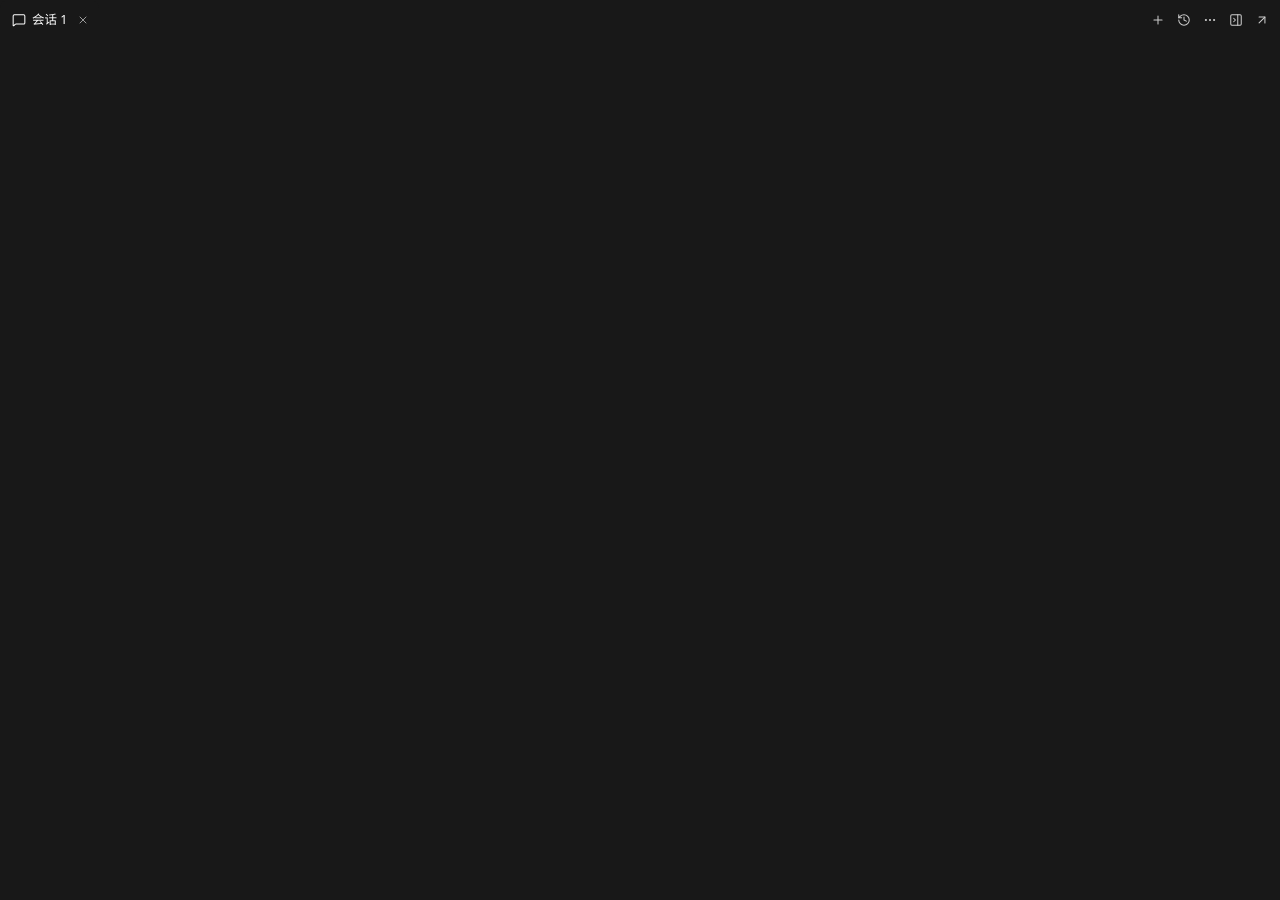
Scenario: <ThreadTabs> history popover › lists recent threads as kit menu rows (h42 with description) and selects on click
Click the button named "历史会话" at (1184, 20), box [1172,8,1196,32]
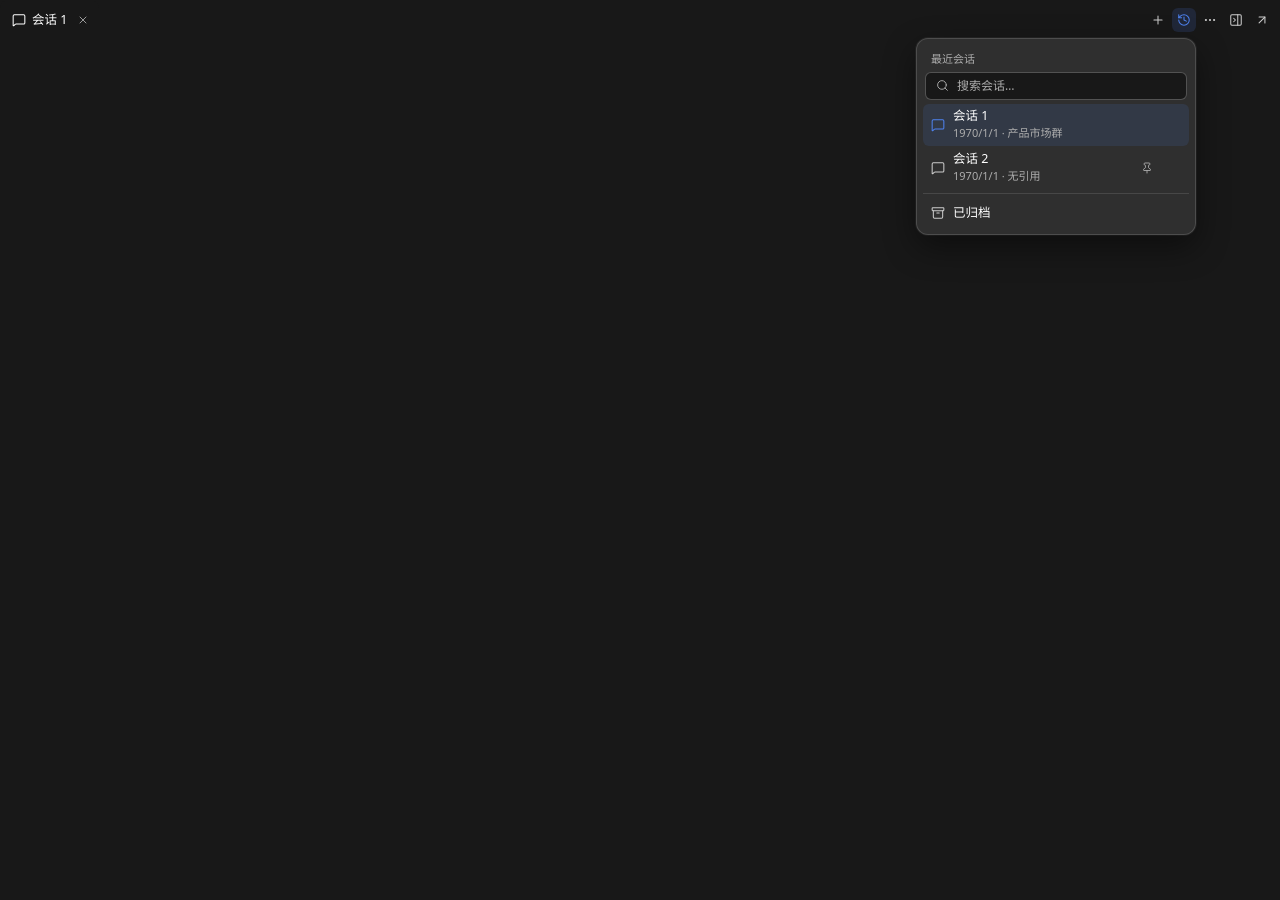
Expected: the number of options is 2
Expected: the option "会话 1 1970/1/1 · 产品市场群" is shown, [923,104,1189,146]
Expected: the option "会话 2 1970/1/1 · 无引用" is shown
Click the option "会话 2 1970/1/1 · 无引用" at (1042, 166), box [931,150,1153,183]
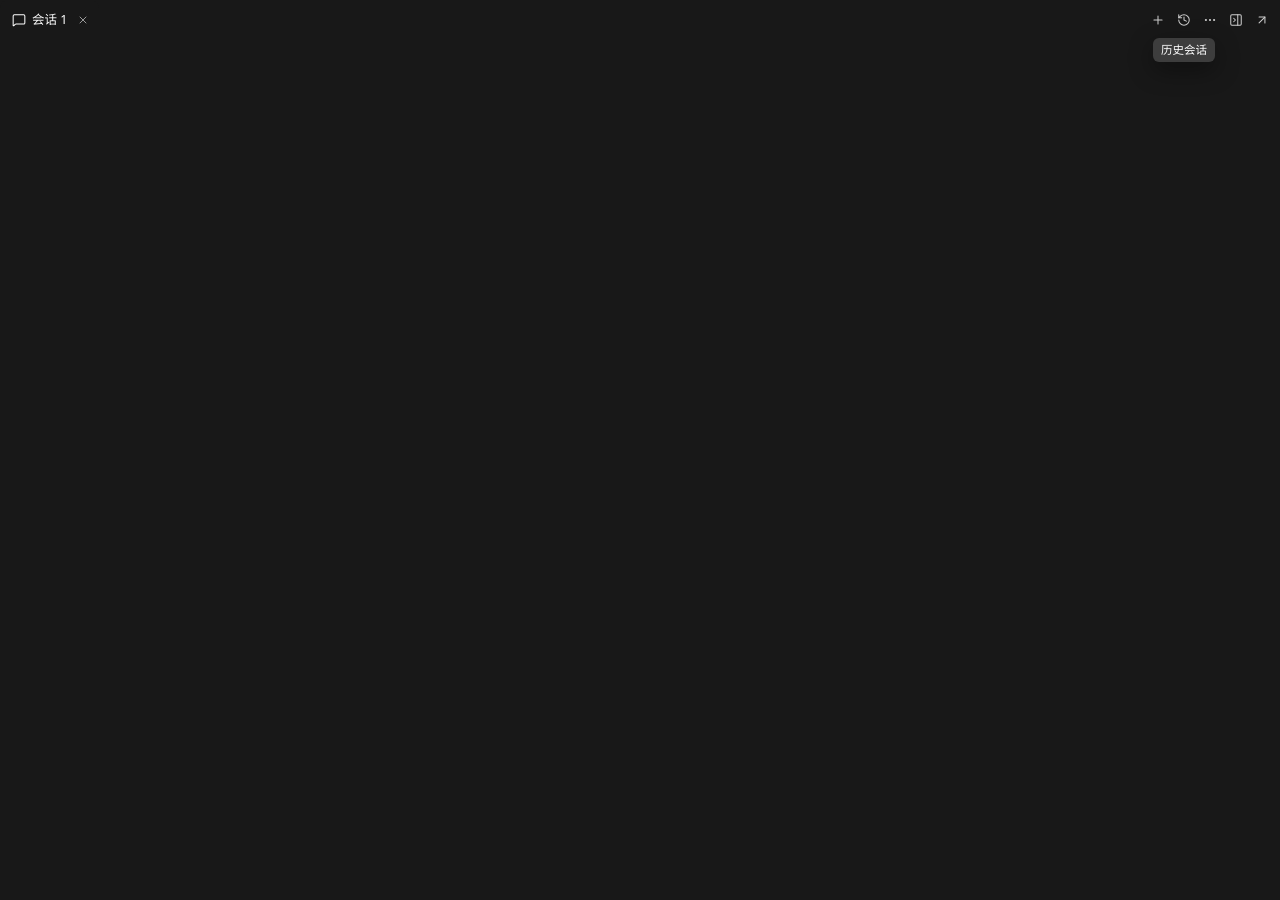
Expected: the option is gone
